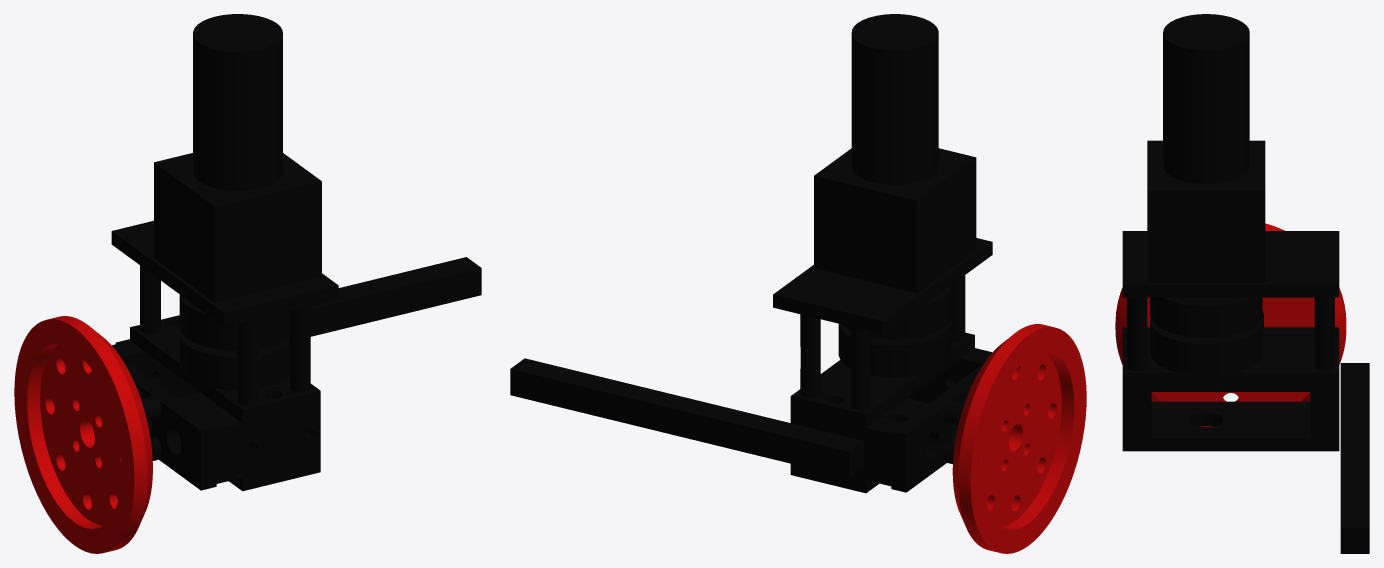
File: FixedR.obj
The picture shows the model from 3 angles, left to right: view 1: azimuth 30°, elevation 25°; view 2: azimuth 150°, elevation 25°; view 3: azimuth 270°, elevation 25°; orthographic projection. The views are drawn at different scales.
Bounding box in the file's own units: 0.1785 × 0.1782 × 0.088.
